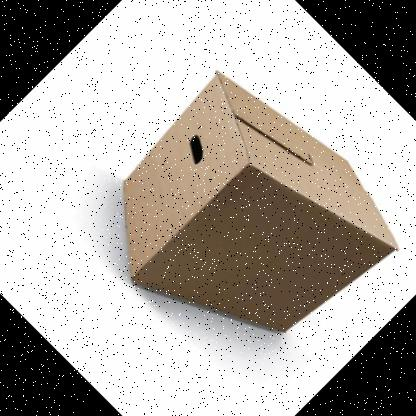box: (122, 70, 399, 333)
normal_hole: (188, 134, 204, 165)
